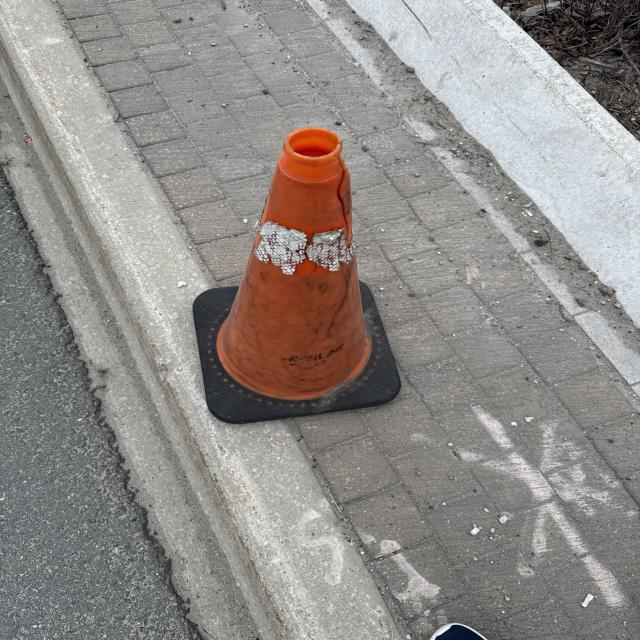Traffic Cone: (194, 126, 400, 423)
